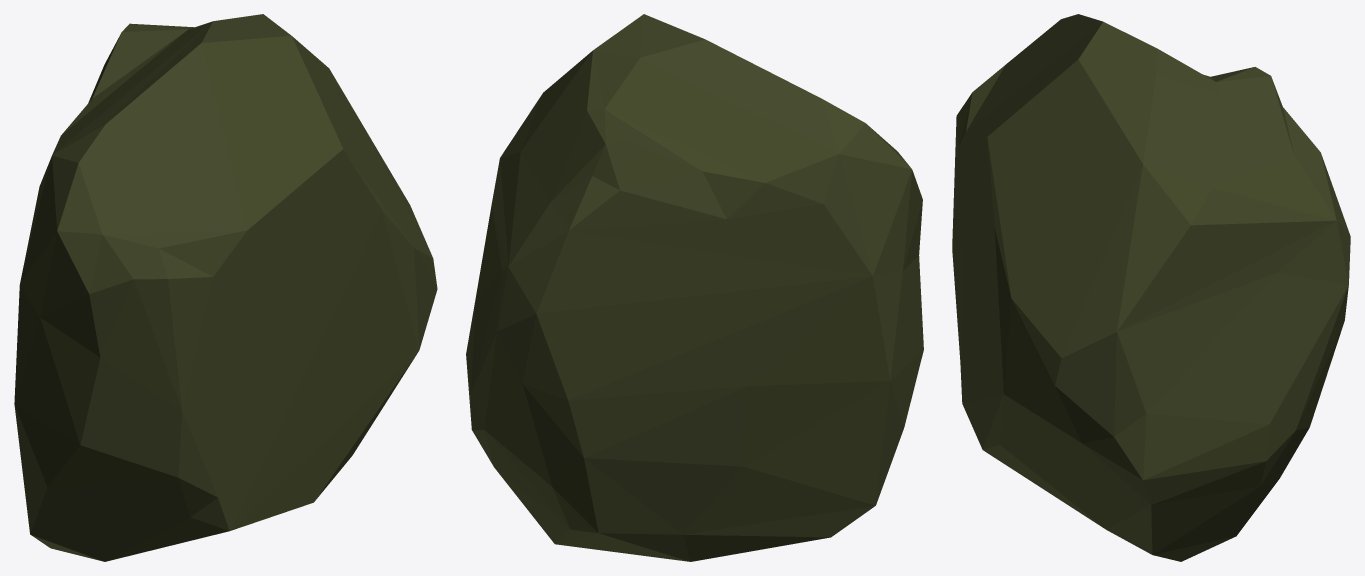
The model's file is SM_small_rock_36.fbx.
The picture shows the model from 3 angles, left to right: view 1: azimuth 30°, elevation 25°; view 2: azimuth 150°, elevation 25°; view 3: azimuth 270°, elevation 25°; orthographic projection. The views are drawn at different scales.
Visible parts, largest first — view 1: small_rock_36; view 2: small_rock_36; view 3: small_rock_36.
Part boxes in pixels (x1=…): small_rock_36: x1=14, y1=14, x2=437, y2=561; small_rock_36: x1=466, y1=14, x2=923, y2=561; small_rock_36: x1=952, y1=14, x2=1350, y2=561.
Size of the model in its own units: 8.96 by 10.63 by 7.74.
